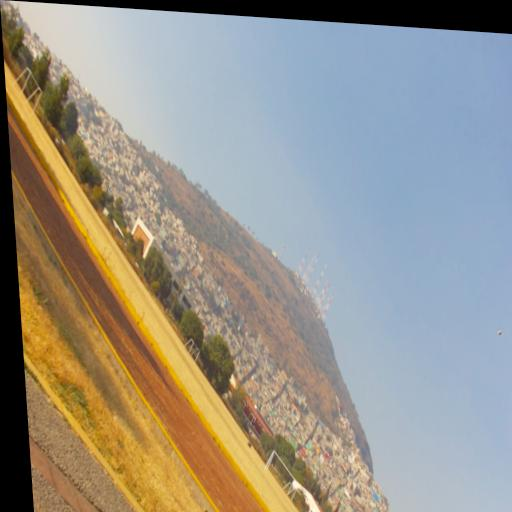drones: (496, 327, 505, 339)
